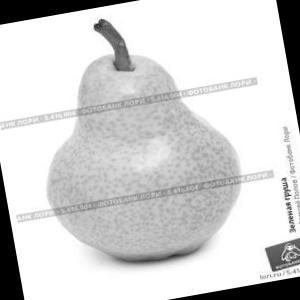fruit: (24, 18, 267, 286)
